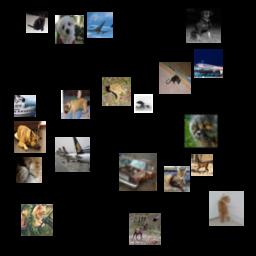airplane: (55, 137, 90, 172), (194, 49, 223, 78), (87, 12, 113, 38), (134, 94, 153, 113)
automobile: (119, 153, 157, 191)
cat: (182, 112, 220, 150), (209, 191, 244, 226), (159, 62, 191, 94), (21, 204, 53, 236), (16, 157, 42, 183), (164, 166, 190, 192), (26, 11, 48, 33)
deer: (129, 213, 161, 245)
dog: (186, 8, 221, 43), (14, 121, 46, 153), (61, 90, 90, 119), (55, 15, 84, 44)
frog: (102, 77, 131, 106)
ship: (14, 95, 36, 117)
